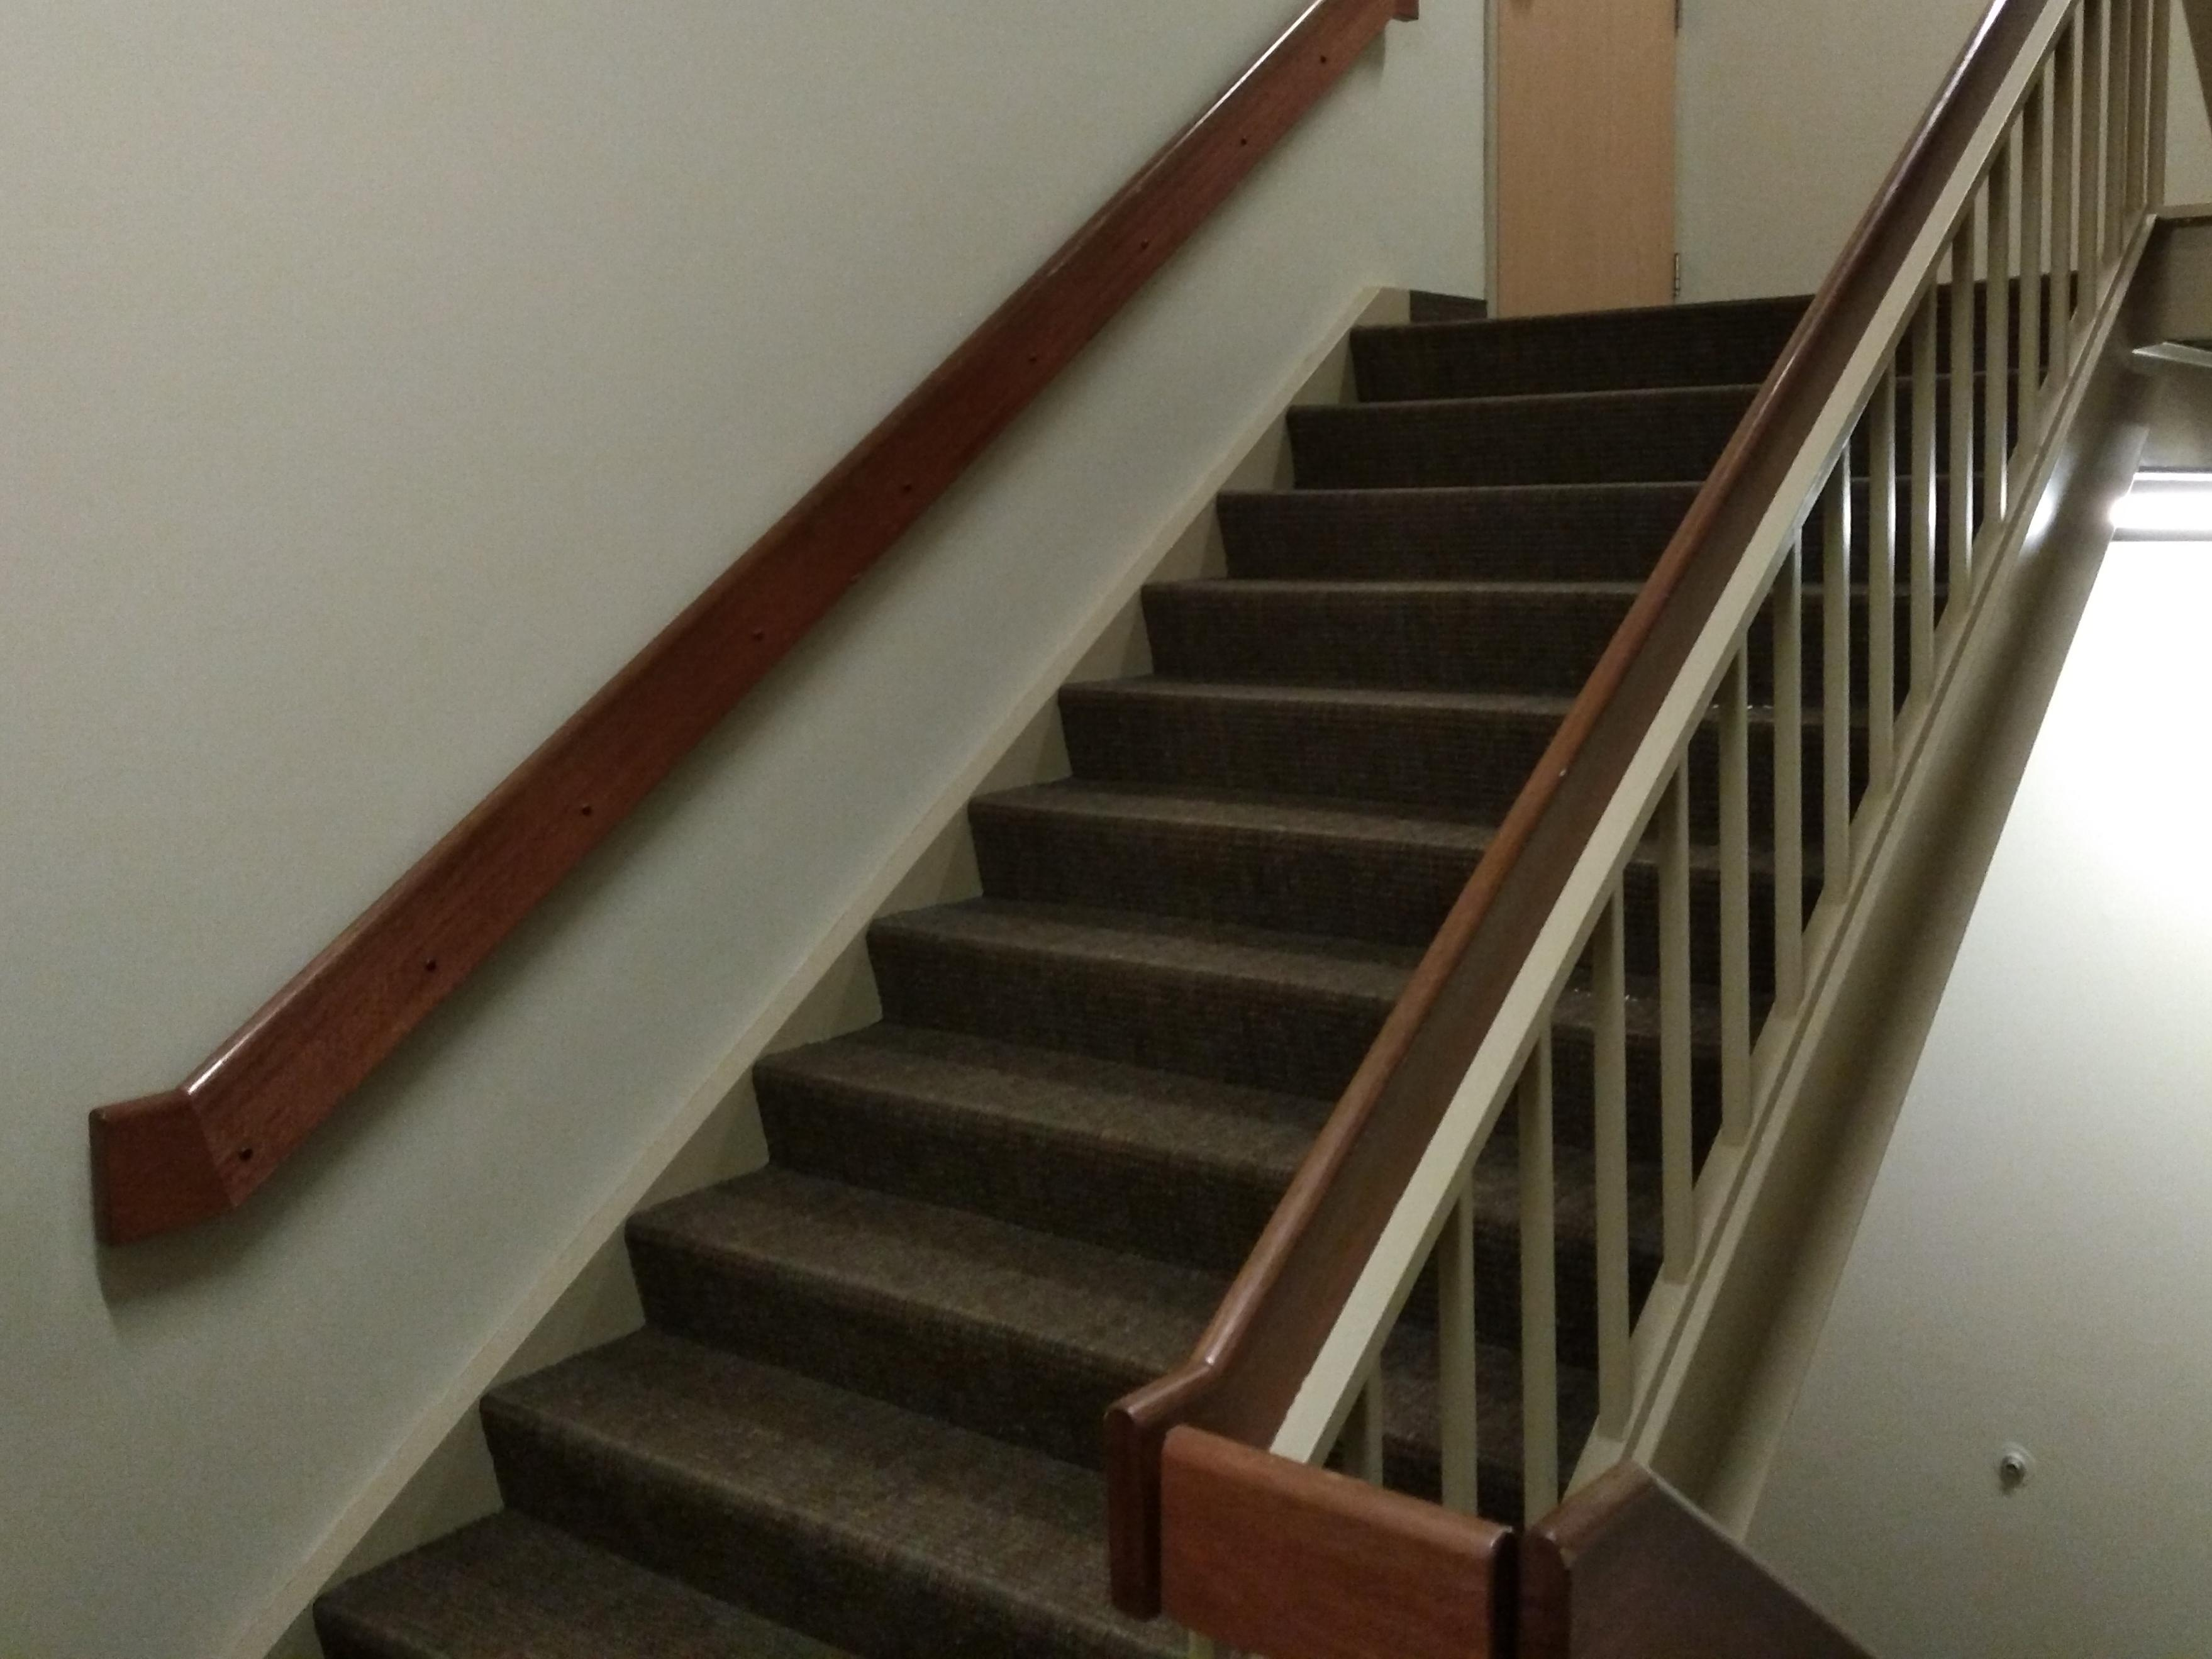stairs_up: (413, 145, 2141, 1598)
